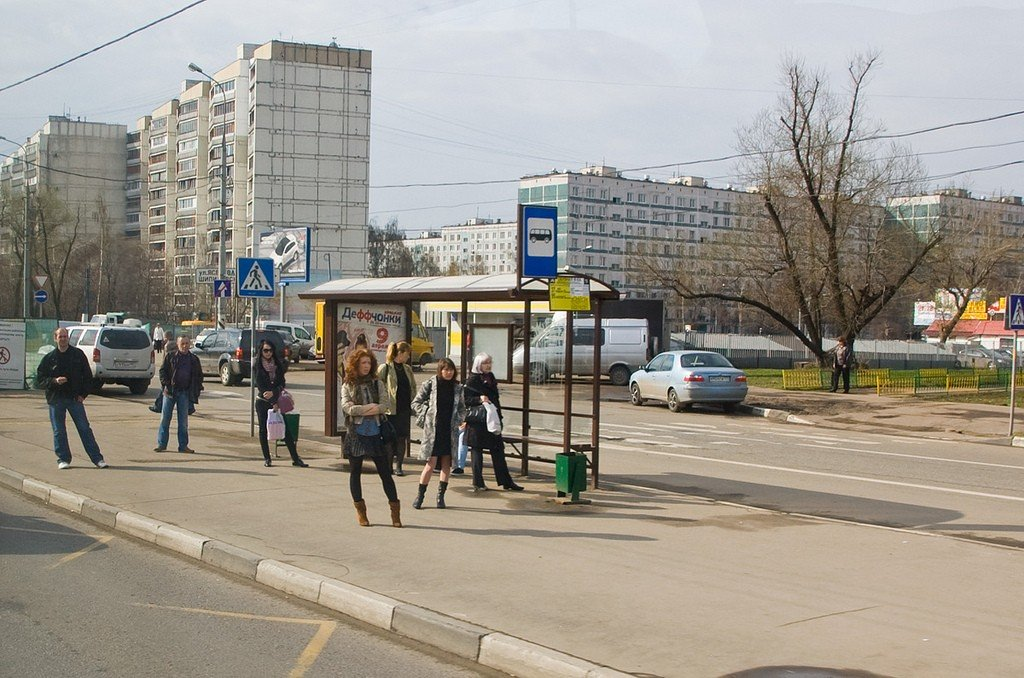sign: (516, 198, 559, 280), (234, 253, 276, 298), (1003, 291, 1024, 331), (212, 276, 233, 300), (33, 288, 50, 305), (33, 273, 50, 288)
